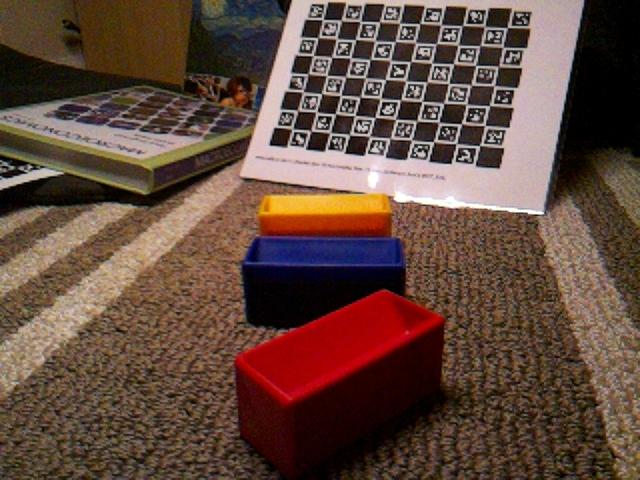blue: (241, 233, 407, 328)
red: (233, 287, 447, 479)
yellow: (257, 192, 394, 237)
